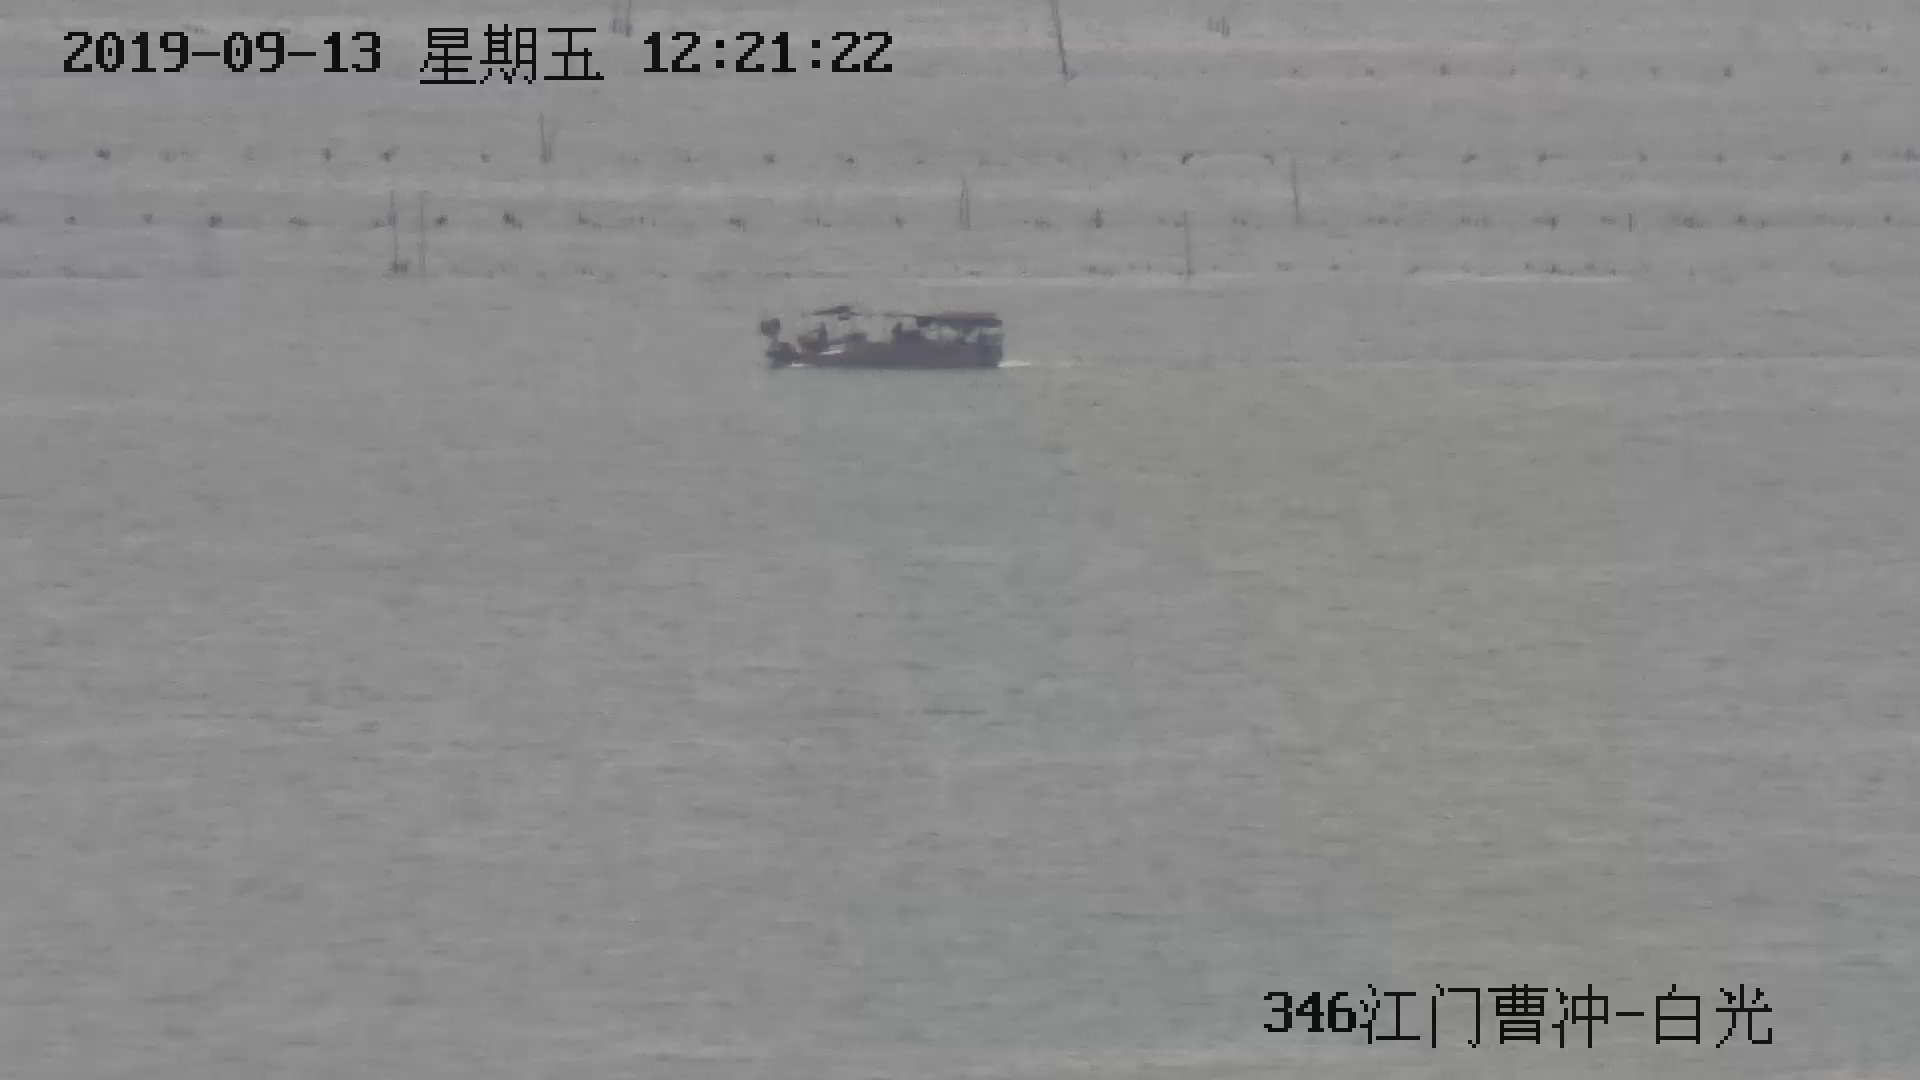ship: (758, 307, 1007, 373)
